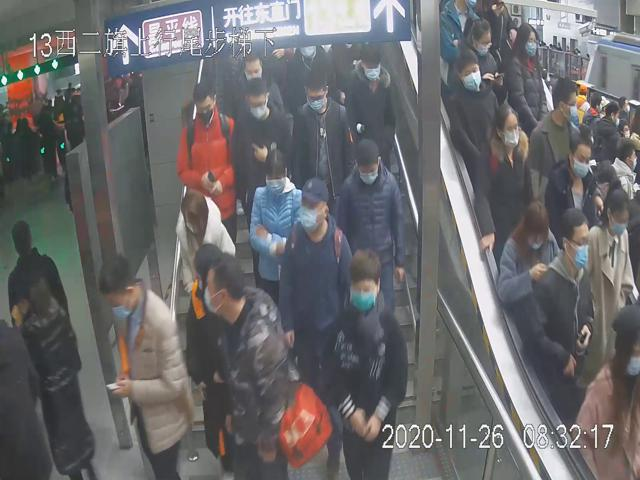person: (97, 253, 190, 480), (203, 259, 296, 480), (324, 247, 409, 476), (277, 176, 349, 396), (524, 205, 597, 406), (335, 134, 406, 316), (185, 243, 244, 425), (175, 82, 237, 250), (472, 101, 537, 259), (231, 74, 291, 230), (291, 68, 354, 208), (246, 148, 302, 295), (497, 198, 561, 315), (174, 188, 235, 310), (448, 47, 503, 168), (348, 39, 396, 172)
